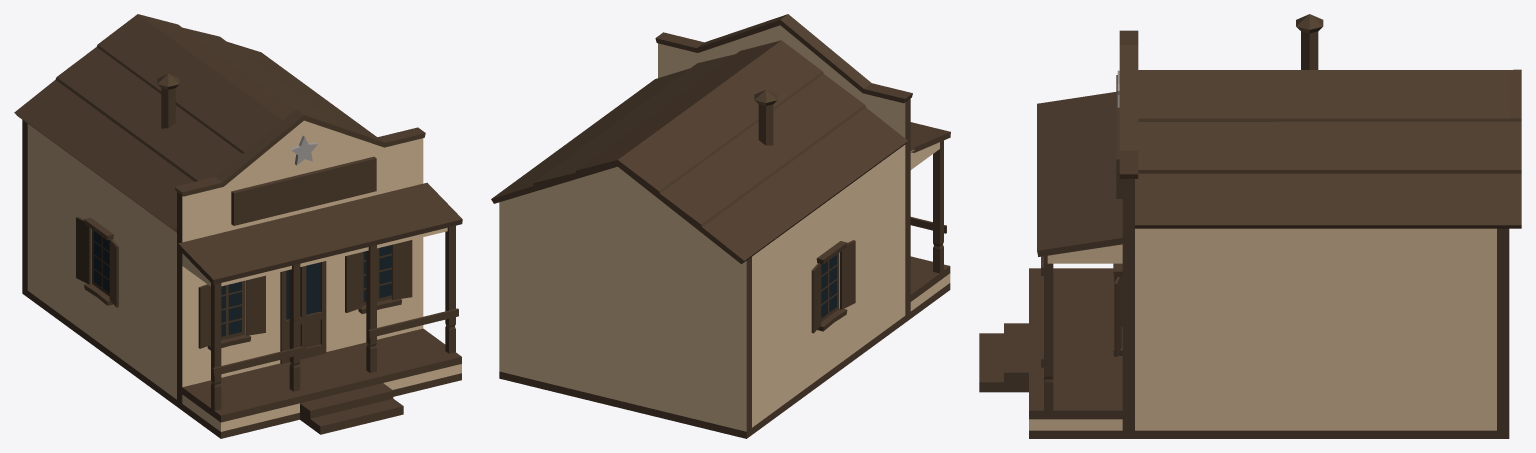
File: scheriff-western.glb
3 views of the same model, side by side, from view 1: azimuth 30°, elevation 25°; view 2: azimuth 150°, elevation 25°; view 3: azimuth 270°, elevation 25° (orthographic). The views are drawn at different scales.
Visible parts, largest first — view 1: scheriff-western; view 2: scheriff-western; view 3: scheriff-western.
Boxes of the visible parts, x1=… form: scheriff-western: x1=14, y1=14, x2=462, y2=438; scheriff-western: x1=491, y1=14, x2=950, y2=438; scheriff-western: x1=979, y1=14, x2=1521, y2=438.
Bounding box in the file's own units: 5.64 × 5.71 × 8.7.
Materials: 1 (1 with a texture image).
